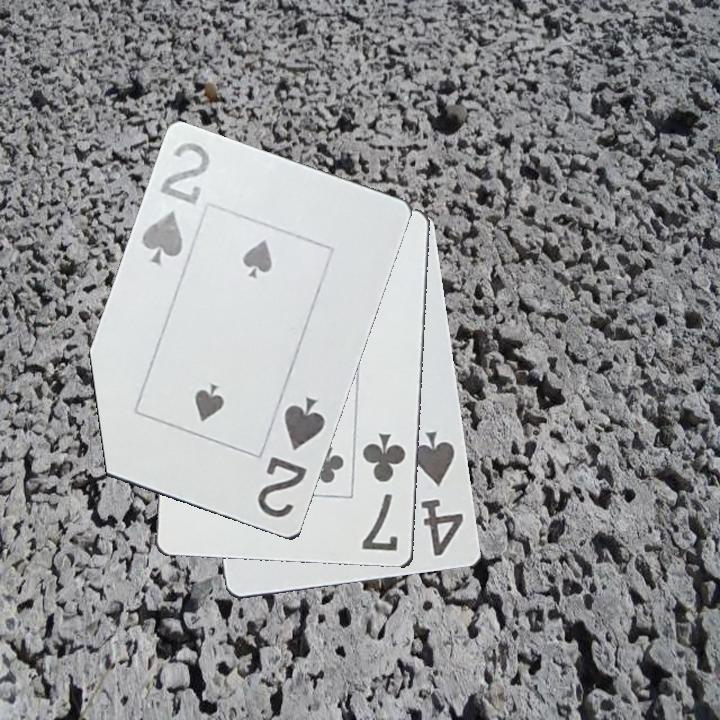2s: (138, 139, 214, 269), (254, 394, 330, 521)
4s: (410, 425, 467, 559)
7c: (358, 430, 409, 555)
